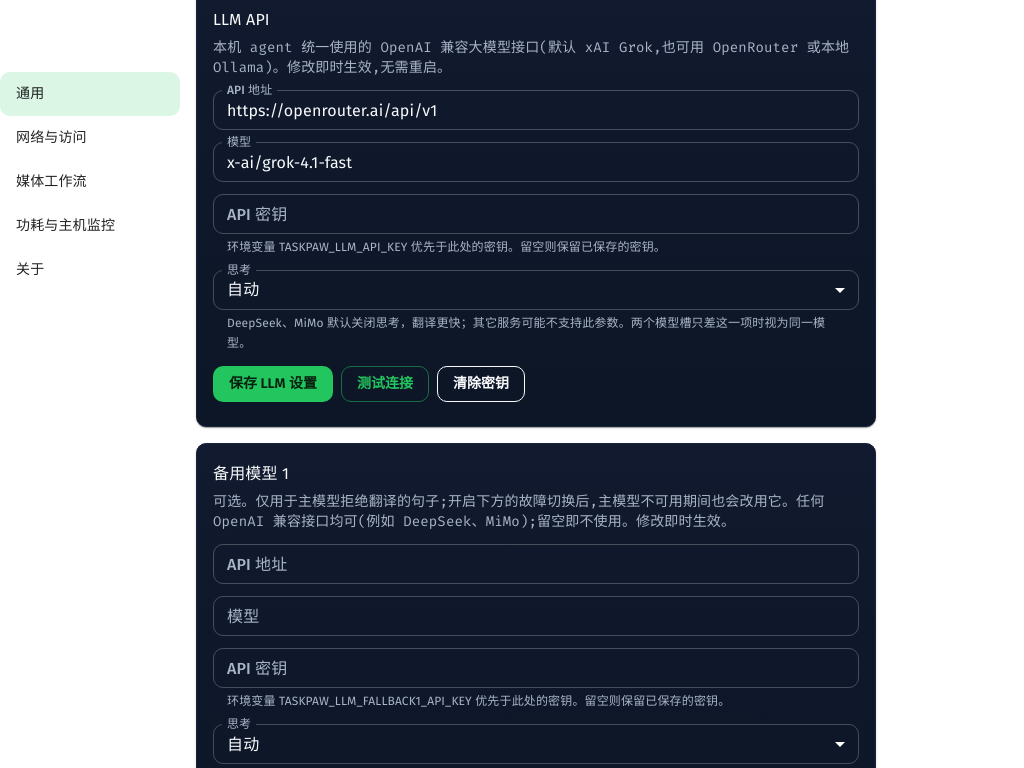
Test: Settings LLM API card › T-U3 Test connection shows the backend error string
The width and height of the screenshot is (1024, 768).
(page scrolled)
Expected: the field labelled "模型" below "LLM API" is shown, [213,142,859,182]
What coordinates should you click on to do the following:
click the button "测试连接"
I would click on:
 (385, 384)
Its box is [341,366,429,402].
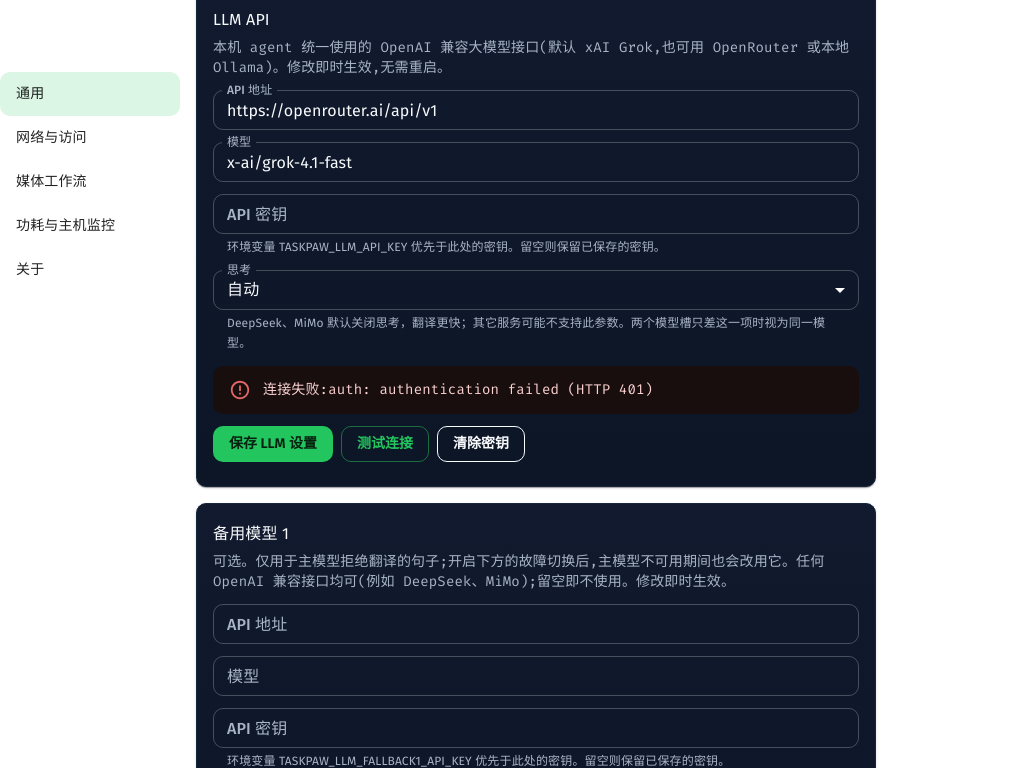
Result: the message shows "auth: authentication failed (HTTP 401)" at [263,380,653,399]
